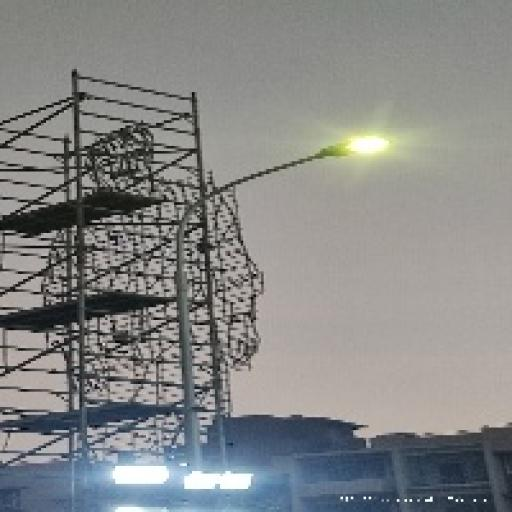Working: (306, 129, 397, 170)
